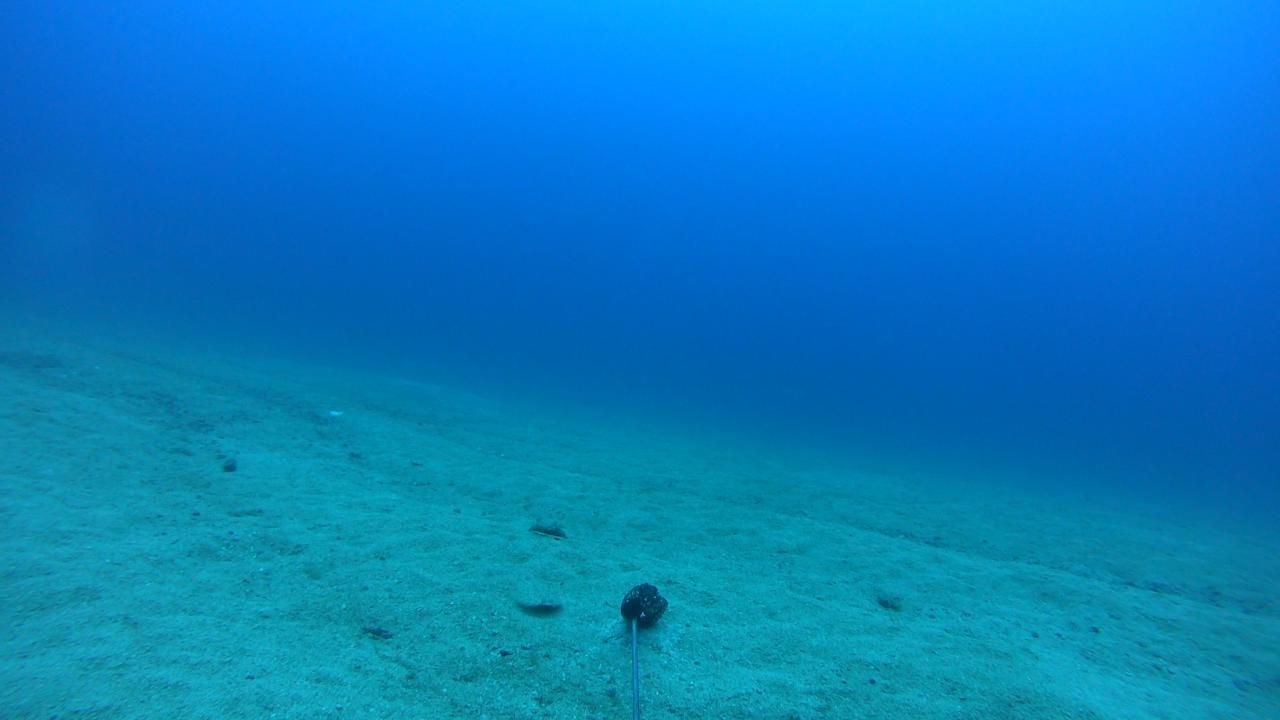bothus: (518, 518, 573, 546), (518, 589, 566, 612), (872, 586, 911, 605)
